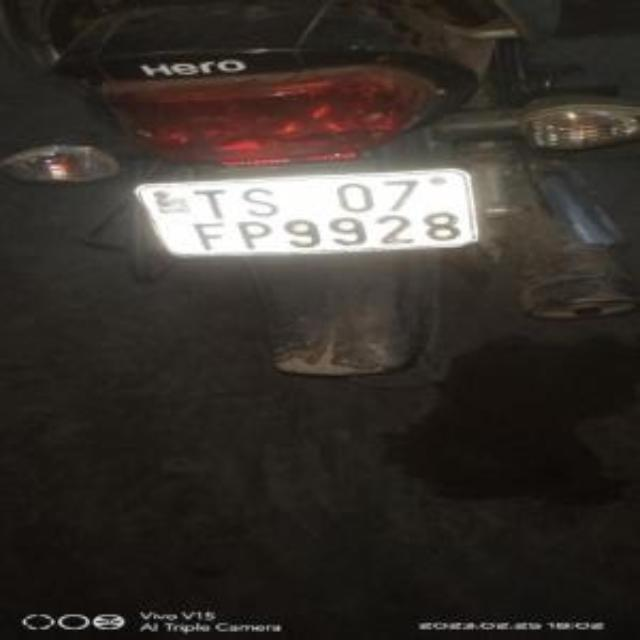License Plate: (149, 162, 485, 265)
